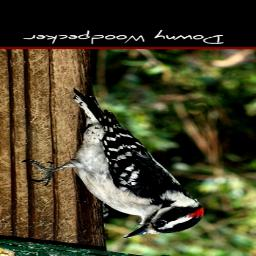Woodpecker: (17, 91, 206, 239)
